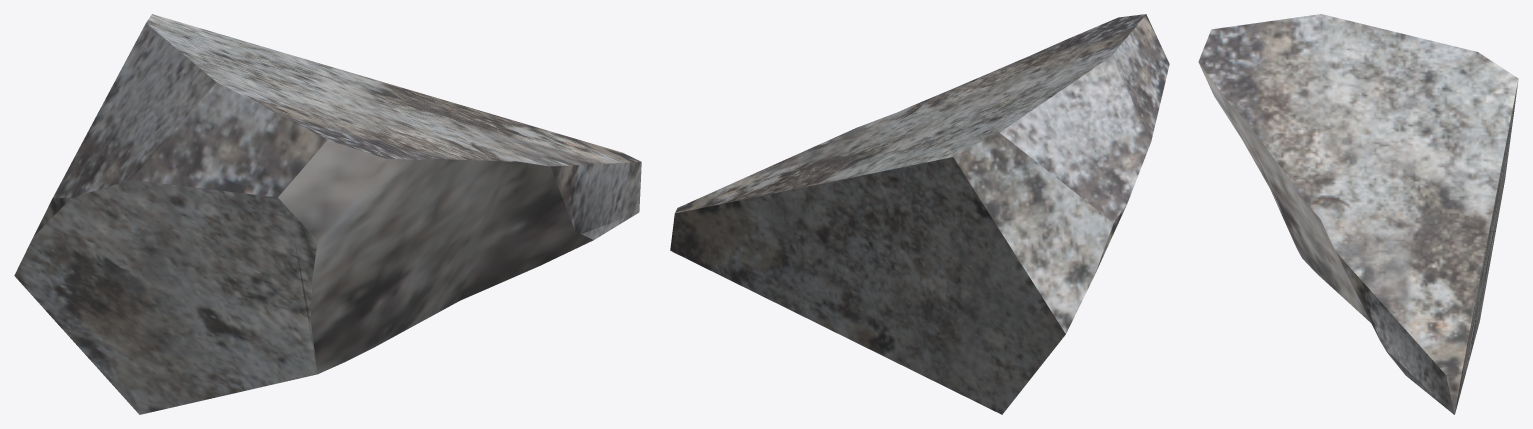
File: Asteroid_Large_001_02_004_03_011.fbx
3 views of the same model, side by side, from view 1: azimuth 30°, elevation 25°; view 2: azimuth 150°, elevation 25°; view 3: azimuth 270°, elevation 25° (orthographic). The views are drawn at different scales.
Parts seen in each view (by area): view 1: Asteroid_Large_001_02_004_03_011; view 2: Asteroid_Large_001_02_004_03_011; view 3: Asteroid_Large_001_02_004_03_011.
Boxes of the visible parts, x1=… form: Asteroid_Large_001_02_004_03_011: x1=14, y1=14, x2=641, y2=414; Asteroid_Large_001_02_004_03_011: x1=670, y1=14, x2=1169, y2=414; Asteroid_Large_001_02_004_03_011: x1=1198, y1=14, x2=1518, y2=414.
Bounding box in the file's own units: 9.61 × 6.49 × 6.4.
